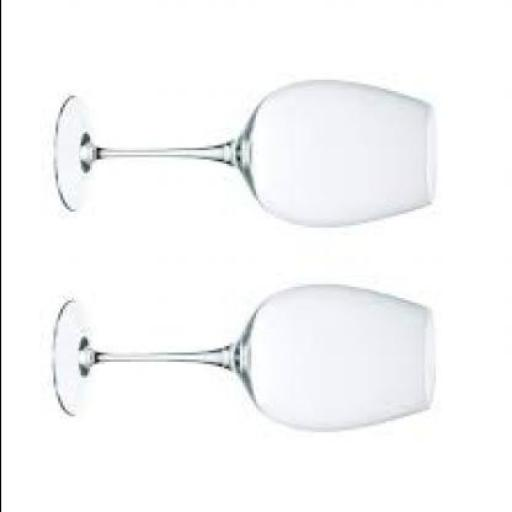glass: (57, 80, 439, 228), (55, 282, 436, 428)
